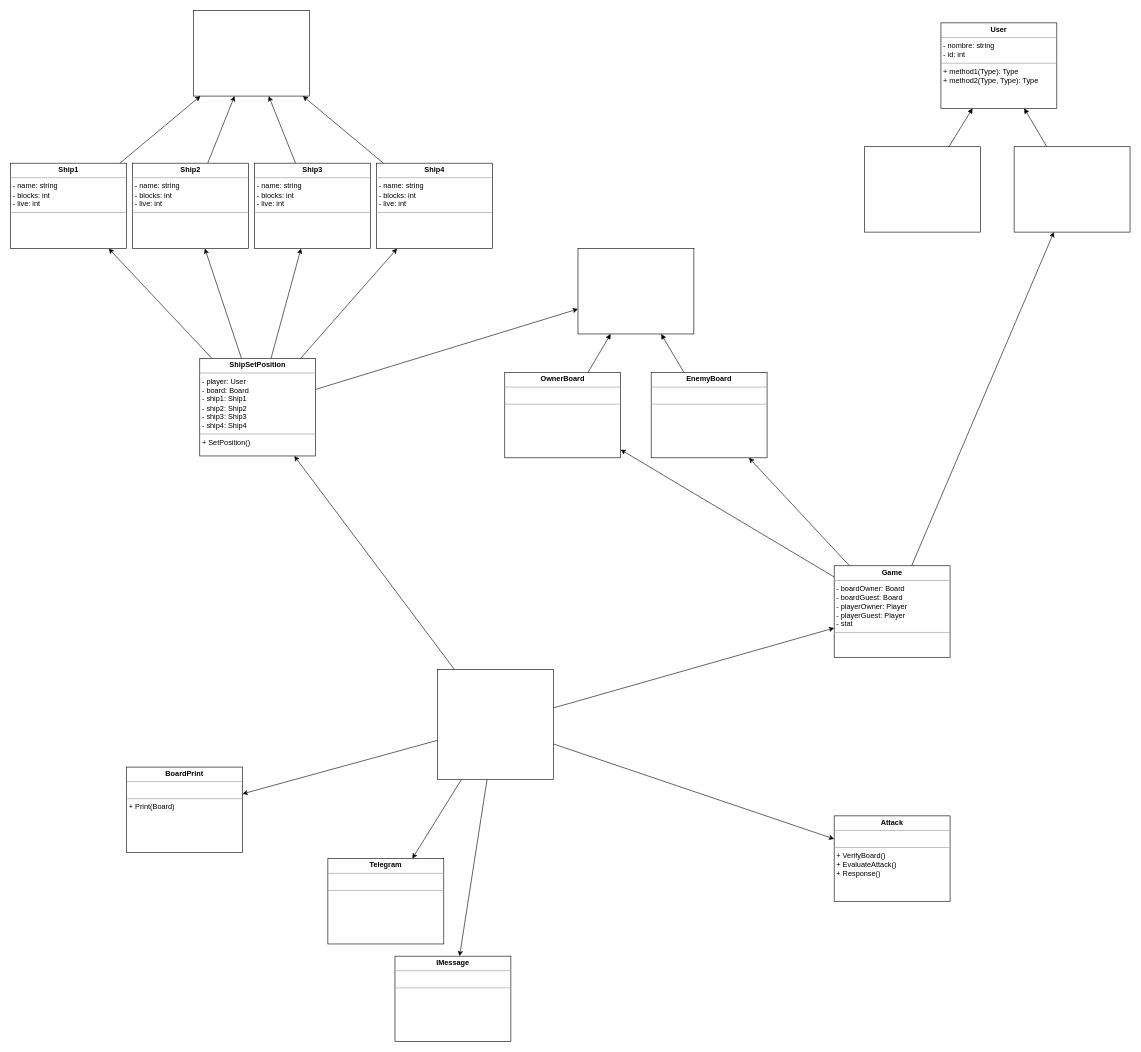
This 1141x1052 diagram has some shape labels left out. Each missing label, with the centre of its shape:
"Admin" belongs at (922,189).
"Board - sizeH: int - sizeV: int" belongs at (635,291).
"Logic + SetPosition() + Game() + Attack() + Wait()" belongs at (495,724).
"Player + NewGame() + FindGame()" belongs at (1072,189).
"Ship - name: string - blocks: int - live: int" belongs at (251,53).
